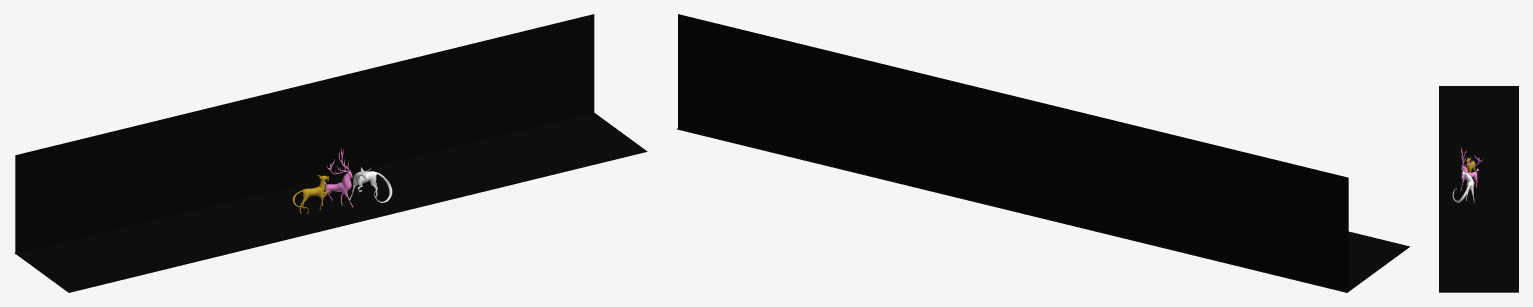
Rendered from README_scene.obj.
3 renders of one model, left to right at view 1: azimuth 30°, elevation 25°; view 2: azimuth 150°, elevation 25°; view 3: azimuth 270°, elevation 25°, orthographic. The views are drawn at different scales.
Parts seen in each view (by area): view 1: Plane.001, Plane, object 4, object 3, object 5; view 2: Plane.001, Plane; view 3: Plane, object 4, object 3, object 5.
Boxes of the visible parts, <box> form: Plane.001: <box>15,14,594,254</box>; Plane: <box>14,112,647,292</box>; object 4: <box>322,148,353,207</box>; object 3: <box>349,167,392,202</box>; object 5: <box>292,175,329,213</box>; Plane.001: <box>678,14,1348,292</box>; Plane: <box>677,128,1410,292</box>; Plane: <box>1439,86,1518,292</box>; object 4: <box>1460,147,1483,191</box>; object 3: <box>1452,169,1474,202</box>; object 5: <box>1466,157,1475,172</box>.
Size of the model in its own units: 68.47 by 11.21 by 11.21.
